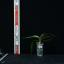leaf: (31, 40, 39, 54), (40, 33, 58, 39), (22, 36, 40, 40), (41, 37, 53, 42), (41, 36, 53, 40)
